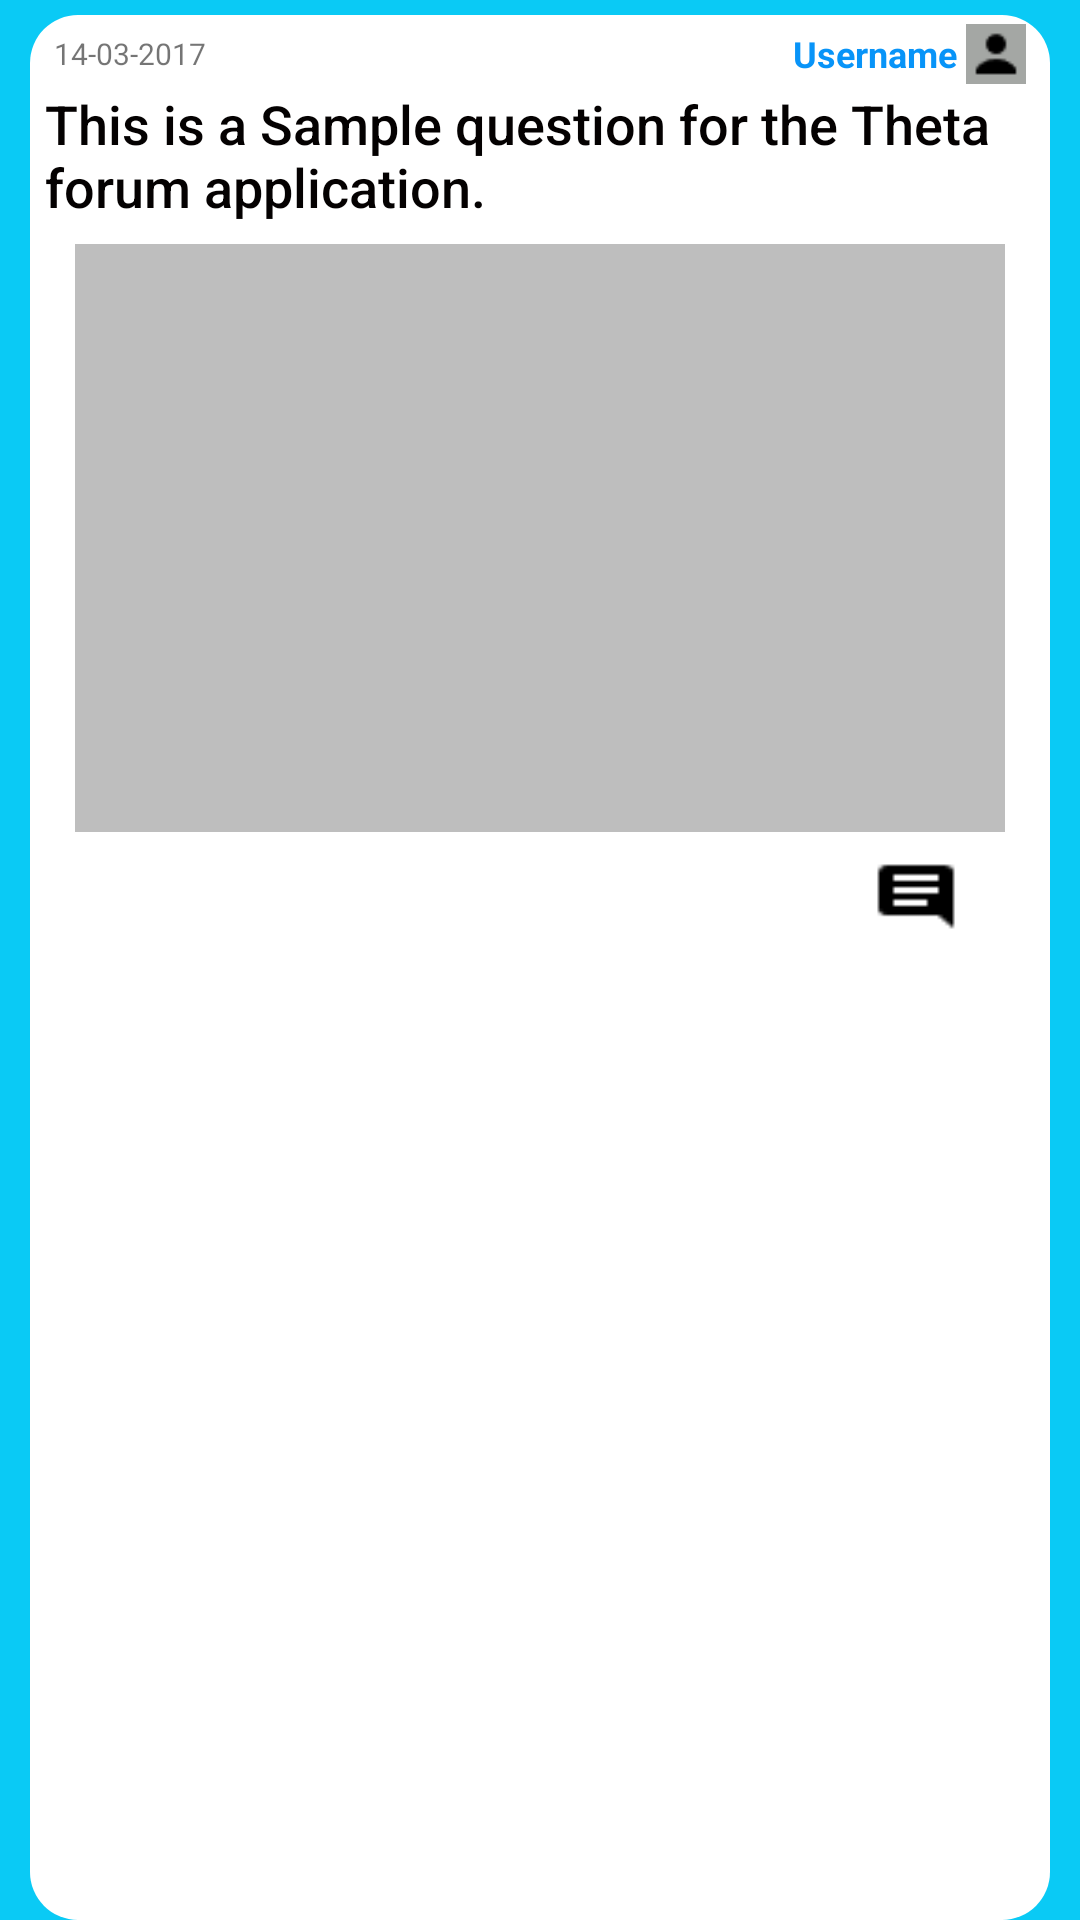

Screen size 1080 × 1920. Icon name, then its box in pixels as Rect(x1, y1, x2, y2):
comments: Rect(877, 864, 955, 929)
